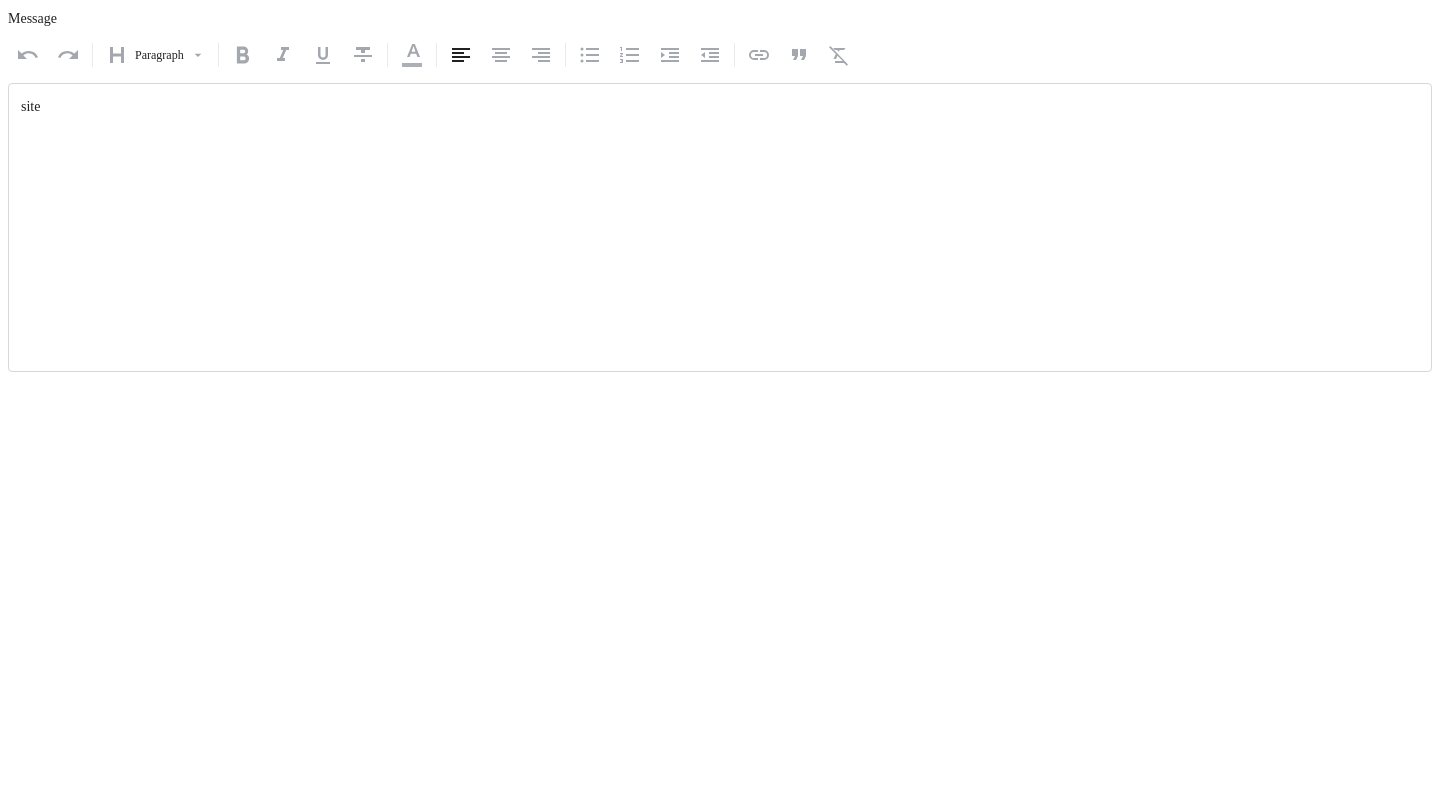
Scenario: the link popover › closes on Escape without changing anything
The image size is (1440, 810).
Click the button named "Link". click: (759, 55)
box: [739,35,779,75]
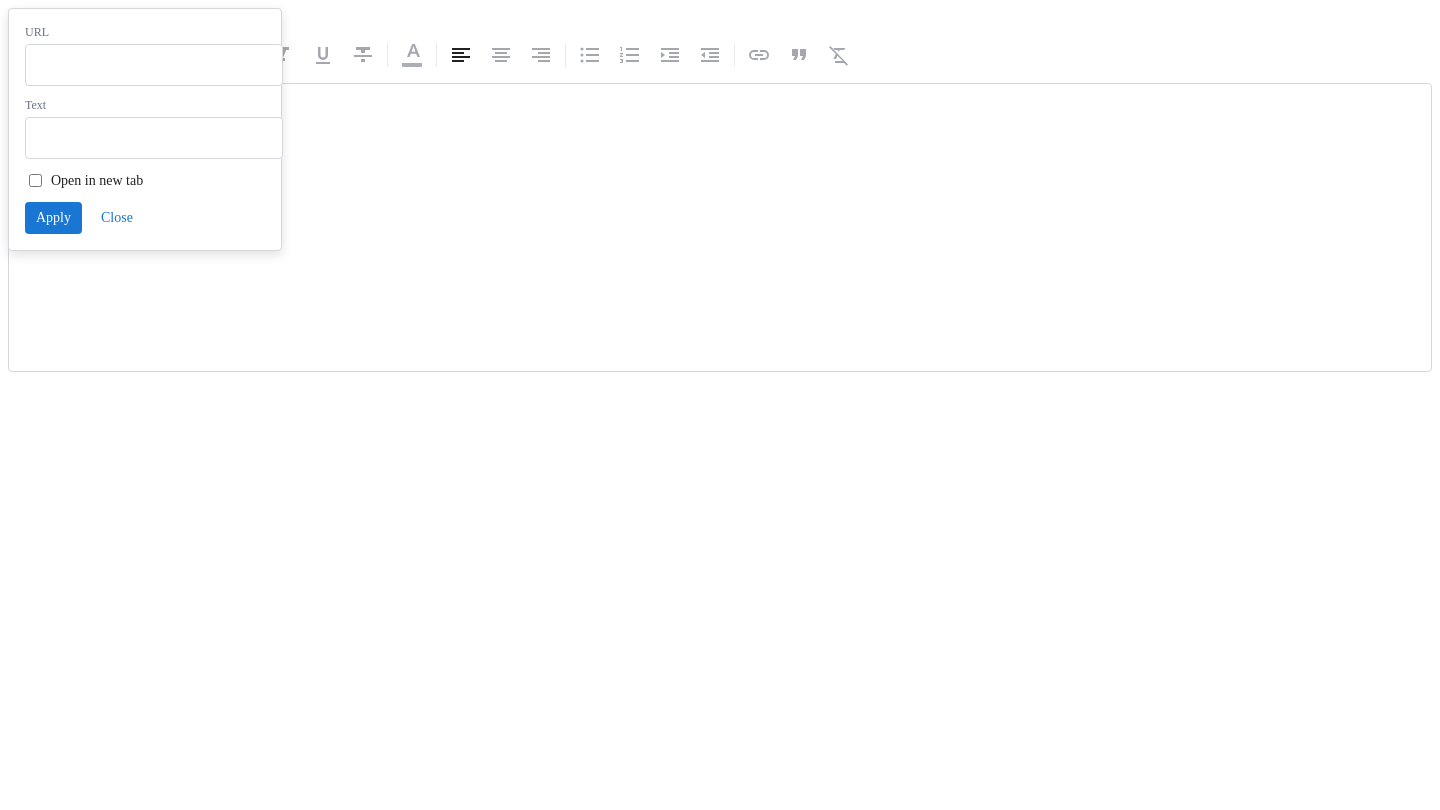
Type "https://example.com" into the field labelled "URL". click: (154, 65)
box: [25,44,283,86]
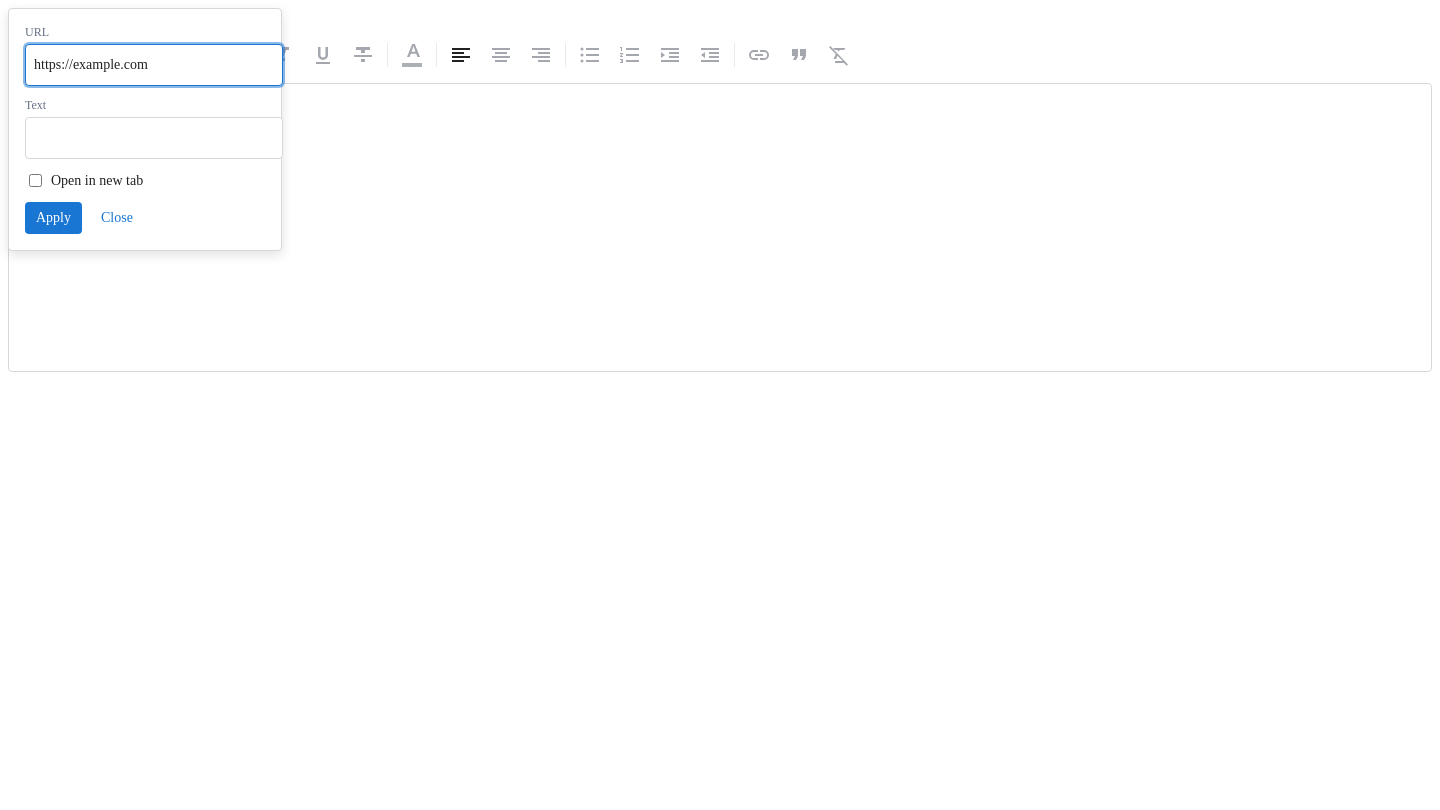
Press Escape
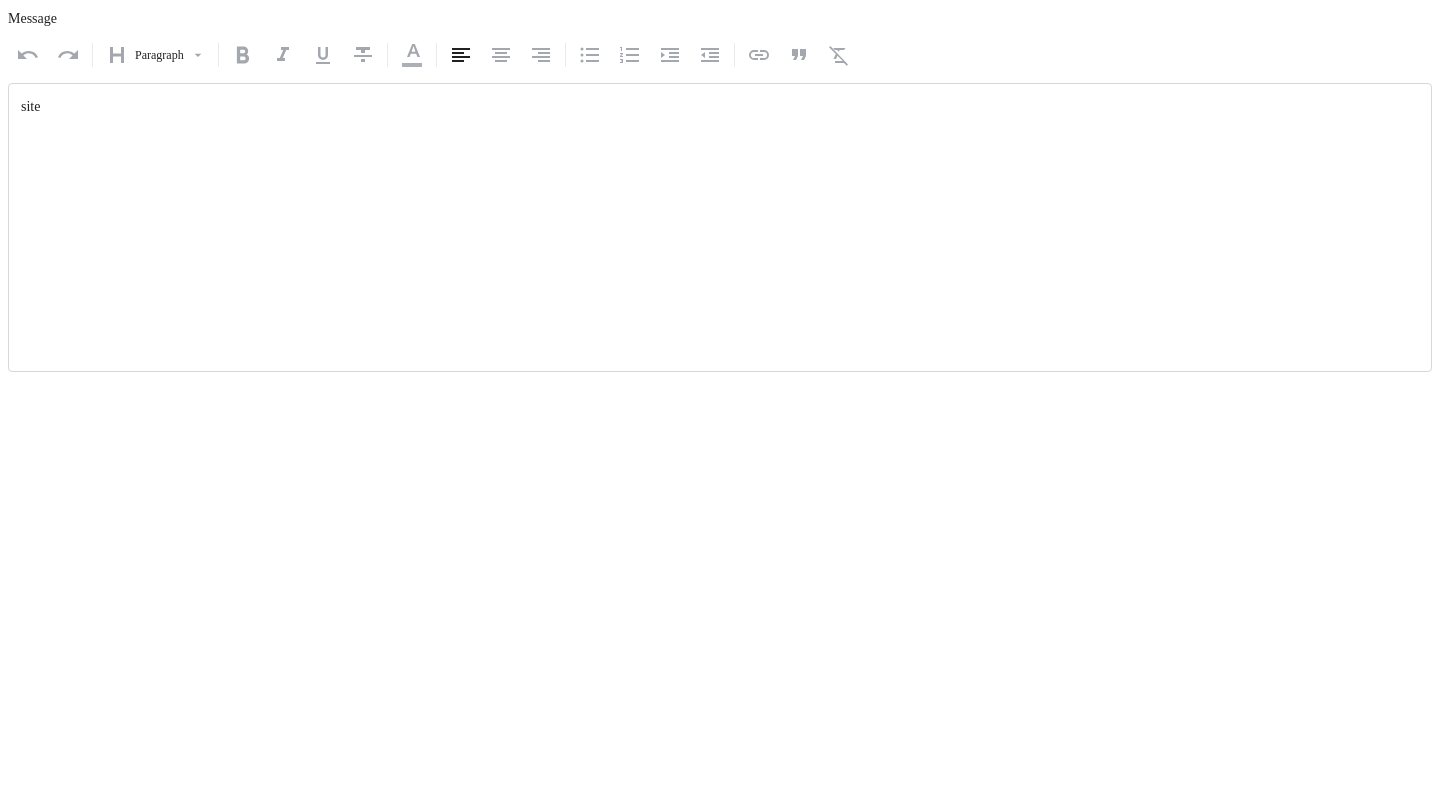
expect the dialog "URL Text Open in new tab Apply Close" is gone: met
